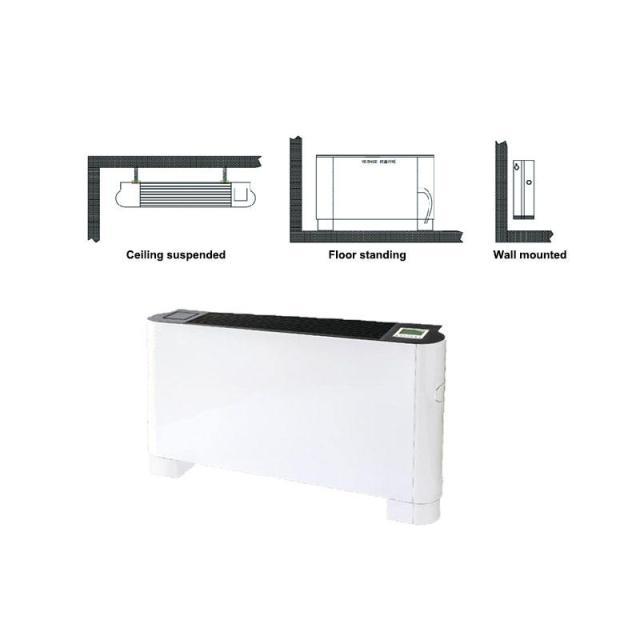appliances: (149, 309, 444, 522)
